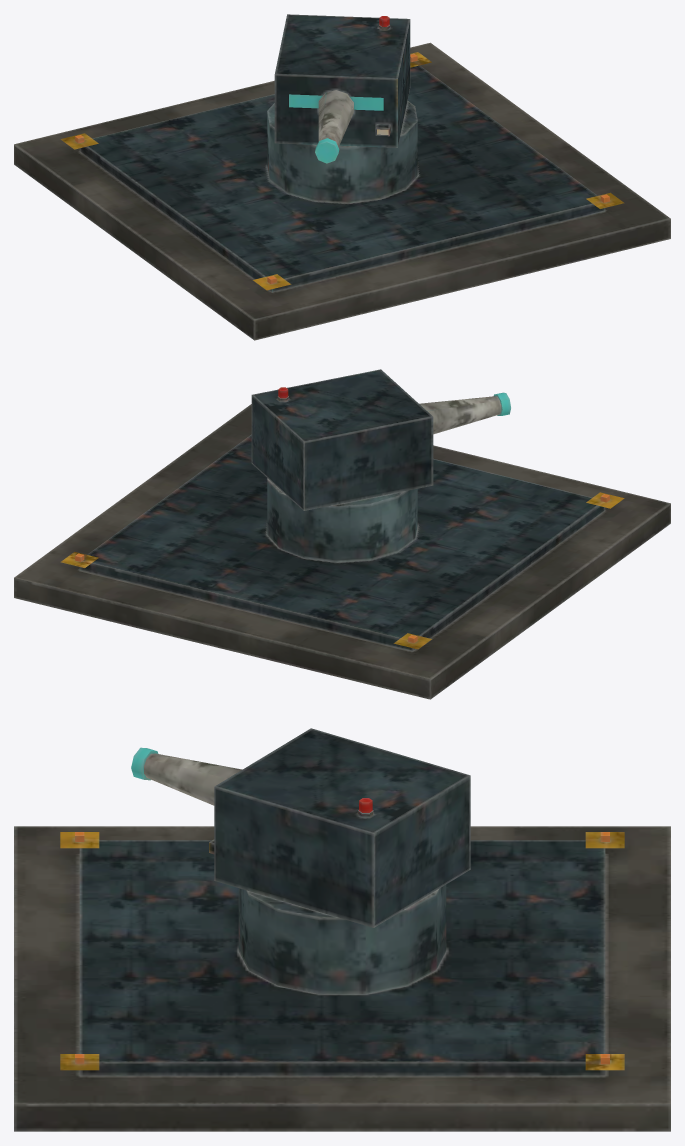
File: spinal_laser.glb
3 renders of one model, top to bottom at view 1: azimuth 30°, elevation 25°; view 2: azimuth 150°, elevation 25°; view 3: azimuth 270°, elevation 25°, orthographic. The views are drawn at different scales.
Visible parts, largest first — view 1: te_spinal_laser; view 2: te_spinal_laser; view 3: te_spinal_laser.
Boxes of the visible parts, box(x1,y1,x2,y2) form: te_spinal_laser: box(14, 14, 670, 340); te_spinal_laser: box(14, 369, 670, 699); te_spinal_laser: box(14, 728, 670, 1131).
Size of the model in its own units: 1.72 by 0.6528 by 1.72.
1 material, 1 textured.
